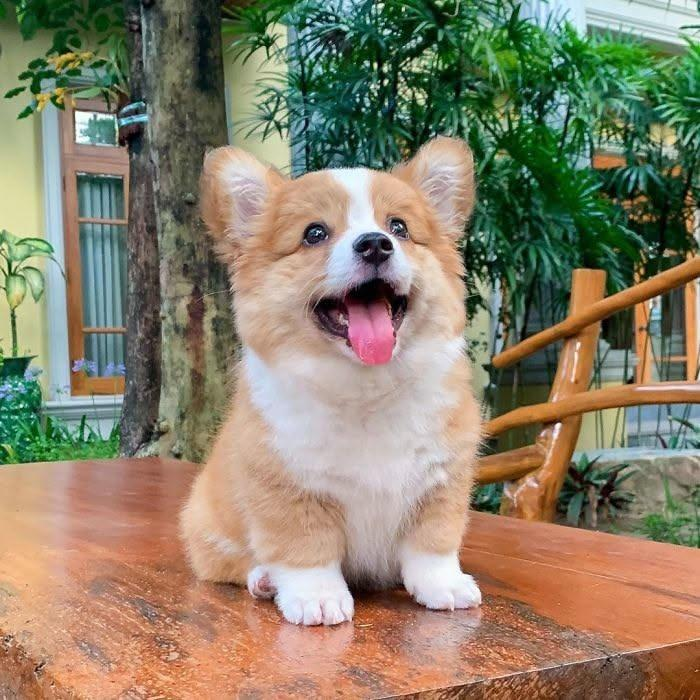puppy-dog: (178, 133, 486, 627)
